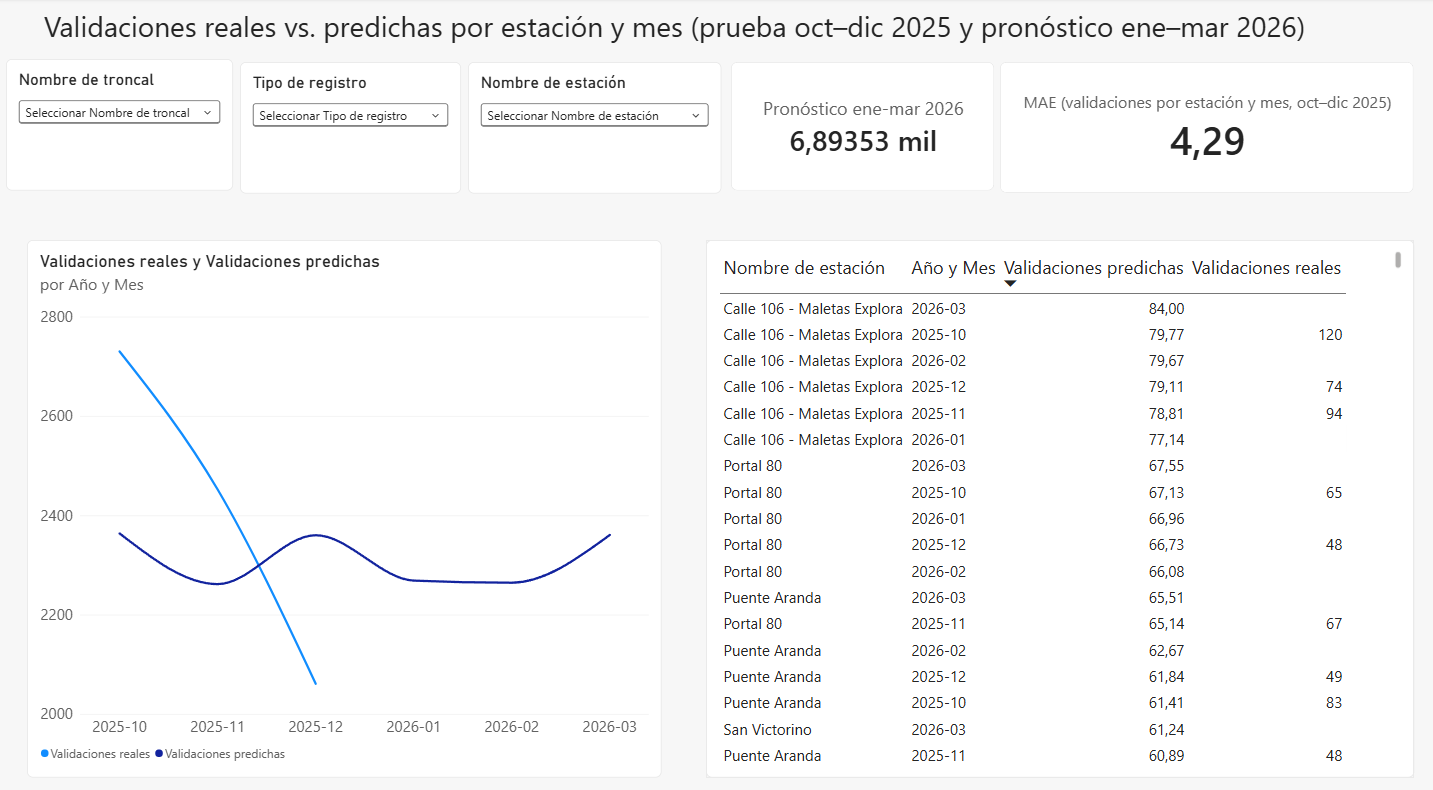

The page's visual inventory and layout, read from the dashboard file:
{"tool":"powerbi","page":{"name":"Predicciones","canvas":[1920,1080],"ordinal":0},"visuals":[{"type":"textbox","box":[9.4,12.6,1778.5,72.3],"z":0},{"type":"lineChart","fields":{"Category":["dim_tiempo.anio_mes"],"Y":["pred_validaciones_estacion_mes.Validaciones reales","pred_validaciones_estacion_mes.Validaciones predichas"]},"box":[37.7,322.4,844.4,715.5],"z":1},{"type":"cardVisual","fields":{"Data":["pred_validaciones_estacion_mes.MAE"]},"box":[1331.9,84.9,550.4,174.5],"z":2},{"type":"cardVisual","fields":{"Data":["pred_validaciones_estacion_mes.Pronóstico ene-mar 2026"]},"box":[973.4,84.9,350.7,171.4],"z":3},{"type":"tableEx","fields":{"Values":["dim_estacion.nombre_estacion","dim_tiempo.anio_mes","pred_validaciones_estacion_mes.Validaciones predichas","pred_validaciones_estacion_mes.Validaciones reales"]},"box":[940.3,322.4,941.9,715.5],"z":4},{"type":"listSlicer","fields":{"Values":["pred_validaciones_estacion_mes.tipo_registro"]},"box":[320.8,84.9,294.1,174.5],"z":6},{"type":"listSlicer","fields":{"Values":["dim_estacion.nombre_estacion"]},"box":[624.3,84.9,336.5,174.5],"z":7},{"type":"listSlicer","fields":{"Values":["dim_estacion.nombre_troncal"]},"box":[9.4,81.8,301.9,174.5],"z":8}]}

Visuals, with their boxes in screenshot pixels (x1, y1, x2, y2), scaled from the page's 1920x1080 canvas onto the 1433x790 screenshot:
textbox: {"x1": 7, "y1": 9, "x2": 1334, "y2": 62}
lineChart - dim_tiempo.anio_mes x pred_validaciones_estacion_mes.Validaciones reales: {"x1": 28, "y1": 236, "x2": 658, "y2": 759}
cardVisual - pred_validaciones_estacion_mes.MAE: {"x1": 994, "y1": 62, "x2": 1405, "y2": 190}
cardVisual - pred_validaciones_estacion_mes.Pronóstico ene-mar 2026: {"x1": 727, "y1": 62, "x2": 988, "y2": 187}
tableEx - dim_estacion.nombre_estacion x dim_tiempo.anio_mes: {"x1": 702, "y1": 236, "x2": 1405, "y2": 759}
listSlicer - pred_validaciones_estacion_mes.tipo_registro: {"x1": 239, "y1": 62, "x2": 459, "y2": 190}
listSlicer - dim_estacion.nombre_estacion: {"x1": 466, "y1": 62, "x2": 717, "y2": 190}
listSlicer - dim_estacion.nombre_troncal: {"x1": 7, "y1": 60, "x2": 232, "y2": 187}
